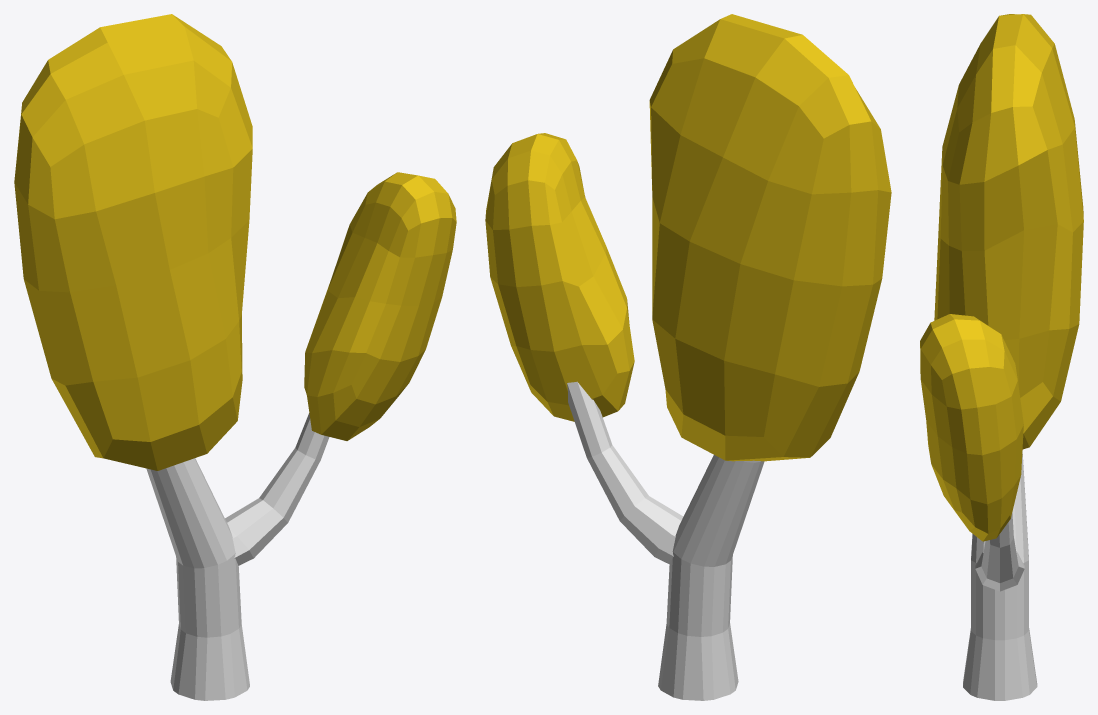
Rendered from birch 1.fbx.
3 views of the same model, side by side, from view 1: azimuth 30°, elevation 25°; view 2: azimuth 150°, elevation 25°; view 3: azimuth 270°, elevation 25° (orthographic). The views are drawn at different scales.
Parts seen in each view (by area): view 1: Cube.001, Cube, Cylinder, Cylinder.001; view 2: Cube.001, Cube, Cylinder, Cylinder.001; view 3: Cube.001, Cube, Cylinder, Cylinder.001.
Boxes of the visible parts, x1,y1,x2,y2 form: Cube.001: (14, 14, 252, 470); Cube: (304, 172, 456, 440); Cylinder: (146, 458, 249, 700); Cylinder.001: (225, 413, 329, 565); Cube.001: (649, 14, 891, 461); Cube: (485, 133, 634, 421); Cylinder: (658, 455, 764, 700); Cylinder.001: (567, 381, 683, 564); Cube.001: (934, 14, 1083, 449); Cube: (920, 314, 1023, 541); Cylinder: (963, 451, 1037, 700); Cylinder.001: (975, 513, 1024, 591).
Bounding box in the file's own units: 710 × 1113 × 264.
